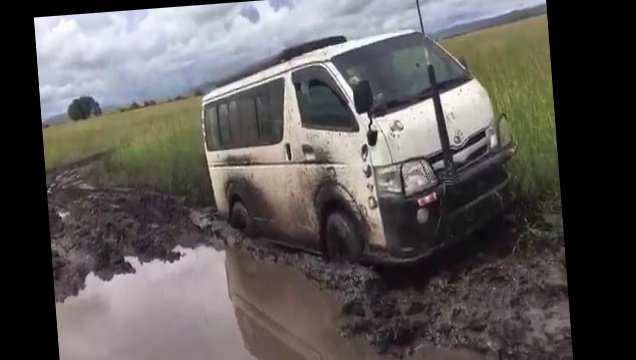van: (193, 16, 521, 271)
